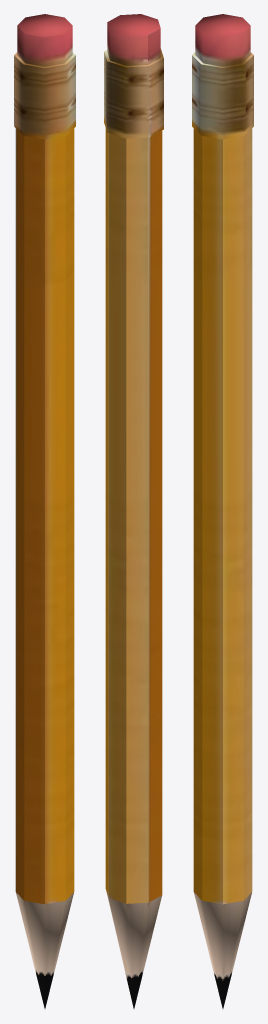
The model's file is pencil.glb.
3 renders of one model, left to right at view 1: azimuth 90°, elevation 25°; view 2: azimuth 210°, elevation 25°; view 3: azimuth 270°, elevation 25°, orthographic.
Parts seen in each view (by area): view 1: Pencil:headusOBJexport_blinn1_0; view 2: Pencil:headusOBJexport_blinn1_0; view 3: Pencil:headusOBJexport_blinn1_0.
Boxes of the visible parts, x1,y1,x2,y2 form: Pencil:headusOBJexport_blinn1_0: (14, 14, 75, 1008); Pencil:headusOBJexport_blinn1_0: (104, 14, 163, 1008); Pencil:headusOBJexport_blinn1_0: (192, 14, 253, 1008).
Size of the model in its own units: 1.11 by 19.54 by 1.11.
Materials: 1 (1 with a texture image).
